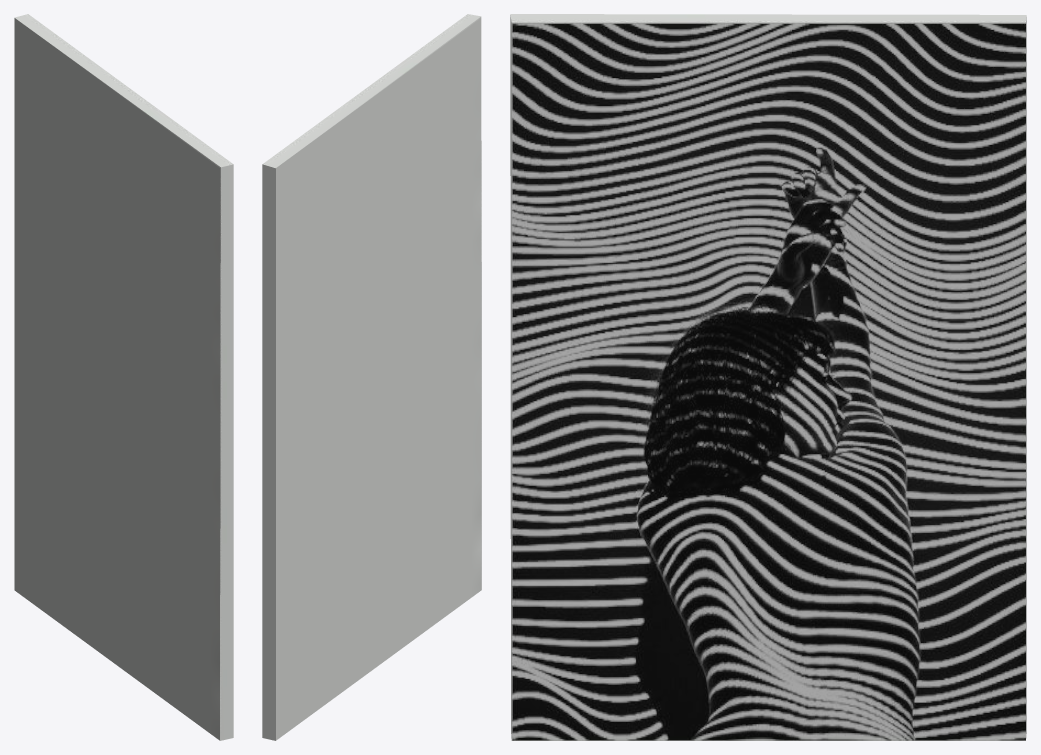
The model's file is WallPainting0008.obj.
3 views of the same model, side by side, from view 1: azimuth 30°, elevation 25°; view 2: azimuth 150°, elevation 25°; view 3: azimuth 270°, elevation 25° (orthographic). The views are drawn at different scales.
Parts seen in each view (by area): view 1: WallPainting0008; view 2: WallPainting0008; view 3: WallPainting0008.
Part boxes in pixels (x1,y1,x2,y2): WallPainting0008: (14,14,233,740); WallPainting0008: (262,14,481,740); WallPainting0008: (510,14,1026,740).
Size of the model in its own units: 0.03 by 1.2 by 0.783.
Materials: 1 (1 with a texture image).
